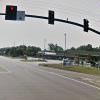Traffic light: (6, 3, 93, 36)
